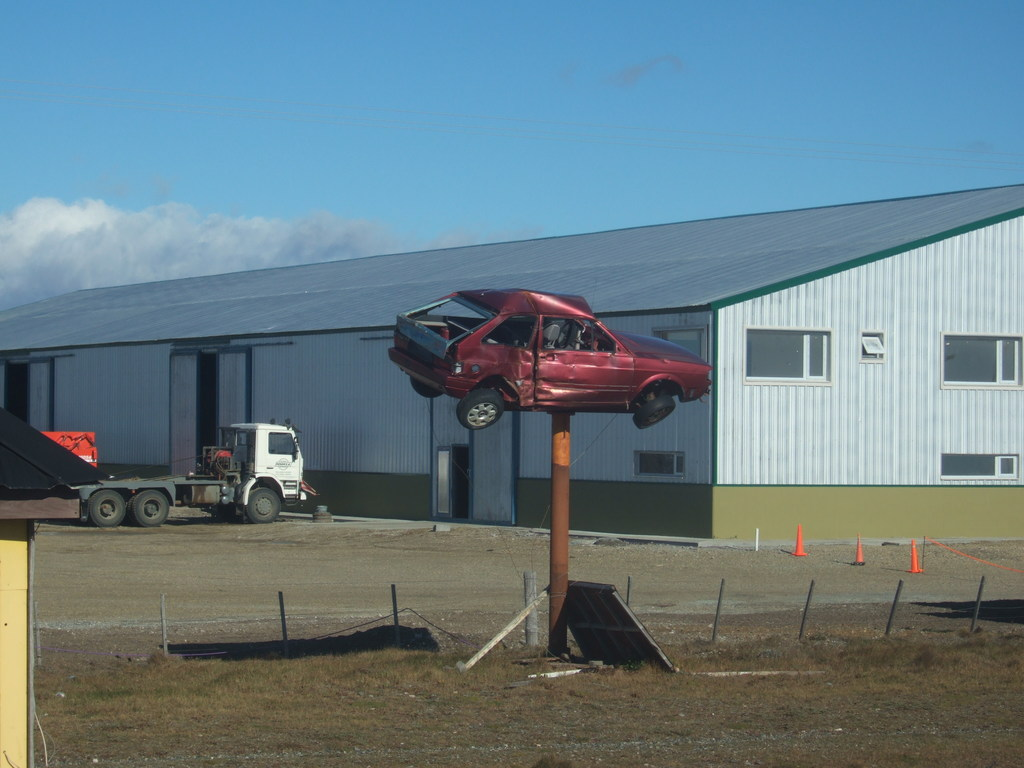cars: (376, 294, 706, 451)
